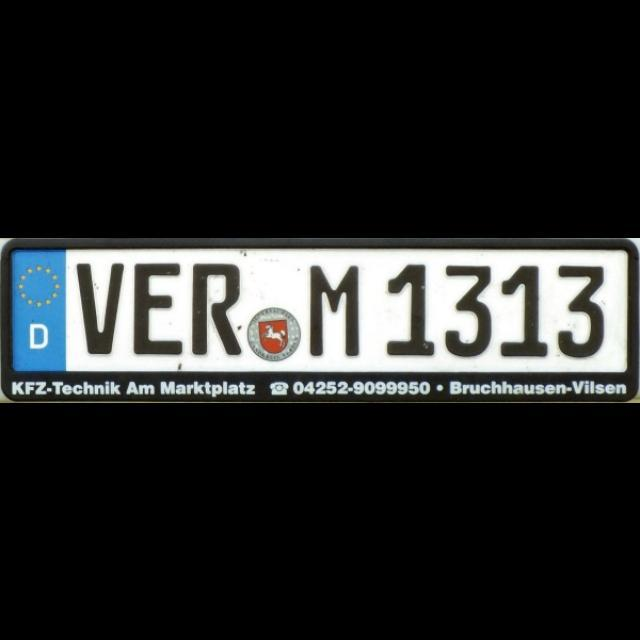license-plates: (10, 243, 638, 400)
